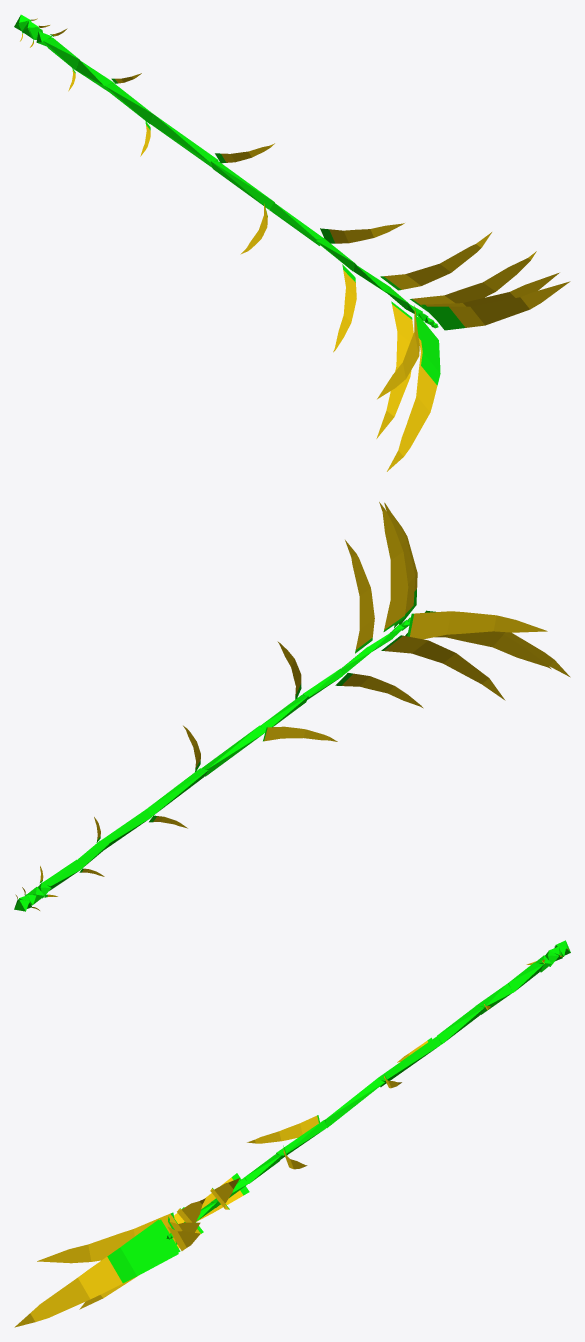
Rendered from usm_18_Beer_2018-10-04_7.obj.
3 renders of one model, top to bottom at view 1: azimuth 30°, elevation 25°; view 2: azimuth 150°, elevation 25°; view 3: azimuth 330°, elevation 25°, orthographic. The views are drawn at different scales.
Parts seen in each view (by area): view 1: vid_10000040, vid_10000042, vid_10000032, vid_10000028, vid_10000030, vid_42, vid_10000036, vid_10000034, vid_19, vid_21, vid_10000024, vid_10000026 (+2 smaller); view 2: vid_10000034, vid_10000030, vid_10000032, vid_10000028, vid_10000038, vid_10000026, vid_10000036, vid_19, vid_21, vid_10000022, vid_17, vid_10000042; view 3: vid_10000042, vid_42, vid_10000034, vid_19, vid_10000022, vid_21, vid_17, vid_23.
Boxes of the visible parts, x1=… form: vid_10000040: x1=449, y1=281, x2=570, y2=327; vid_10000042: x1=387, y1=366, x2=437, y2=471; vid_10000032: x1=412, y1=251, x2=536, y2=305; vid_10000028: x1=384, y1=232, x2=491, y2=289; vid_10000030: x1=376, y1=304, x2=413, y2=438; vid_42: x1=418, y1=315, x2=440, y2=385; vid_10000036: x1=425, y1=272, x2=559, y2=306; vid_10000034: x1=377, y1=307, x2=419, y2=399; vid_19: x1=150, y1=115, x2=218, y2=167; vid_21: x1=210, y1=161, x2=274, y2=209; vid_10000024: x1=329, y1=223, x2=404, y2=243; vid_10000026: x1=333, y1=270, x2=356, y2=352; vid_10000034: x1=410, y1=611, x2=547, y2=639; vid_10000030: x1=384, y1=635, x2=505, y2=700; vid_10000032: x1=379, y1=502, x2=408, y2=629; vid_10000028: x1=345, y1=540, x2=374, y2=649; vid_10000038: x1=435, y1=631, x2=551, y2=669; vid_10000026: x1=342, y1=673, x2=423, y2=708; vid_10000036: x1=384, y1=502, x2=415, y2=613; vid_19: x1=147, y1=768, x2=208, y2=816; vid_21: x1=201, y1=725, x2=264, y2=776; vid_10000022: x1=264, y1=726, x2=337, y2=741; vid_17: x1=101, y1=808, x2=151, y2=849; vid_10000042: x1=497, y1=631, x2=570, y2=677; vid_10000042: x1=14, y1=1257, x2=122, y2=1327; vid_42: x1=107, y1=1219, x2=178, y2=1283; vid_10000034: x1=37, y1=1213, x2=175, y2=1263; vid_19: x1=377, y1=1036, x2=441, y2=1087; vid_10000022: x1=247, y1=1115, x2=318, y2=1143; vid_21: x1=324, y1=1078, x2=384, y2=1127; vid_17: x1=437, y1=1006, x2=484, y2=1043; vid_23: x1=276, y1=1120, x2=327, y2=1159.
Size of the model in its own units: 65.83 by 53.97 by 283.
